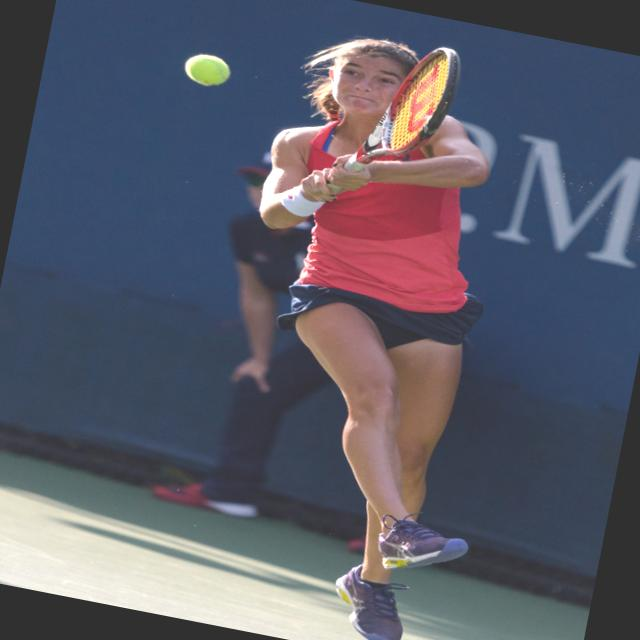Tennis ball: (179, 50, 232, 91)
